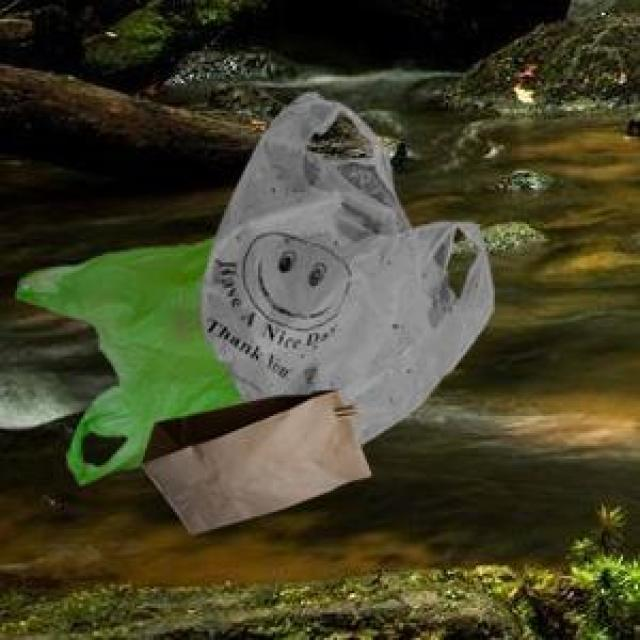paper: (137, 386, 366, 529)
